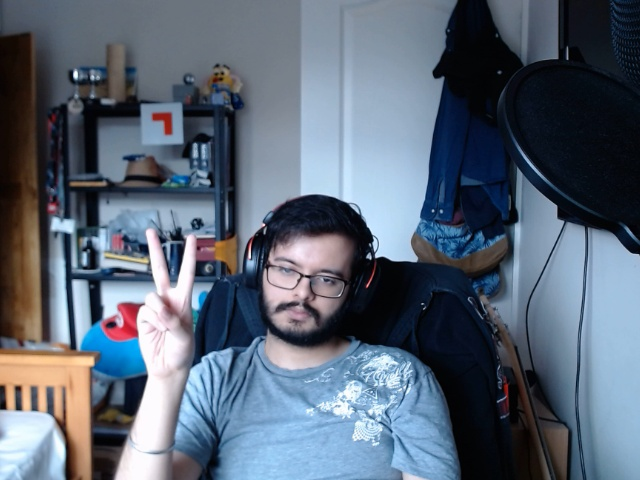Peace: (130, 222, 211, 391)
